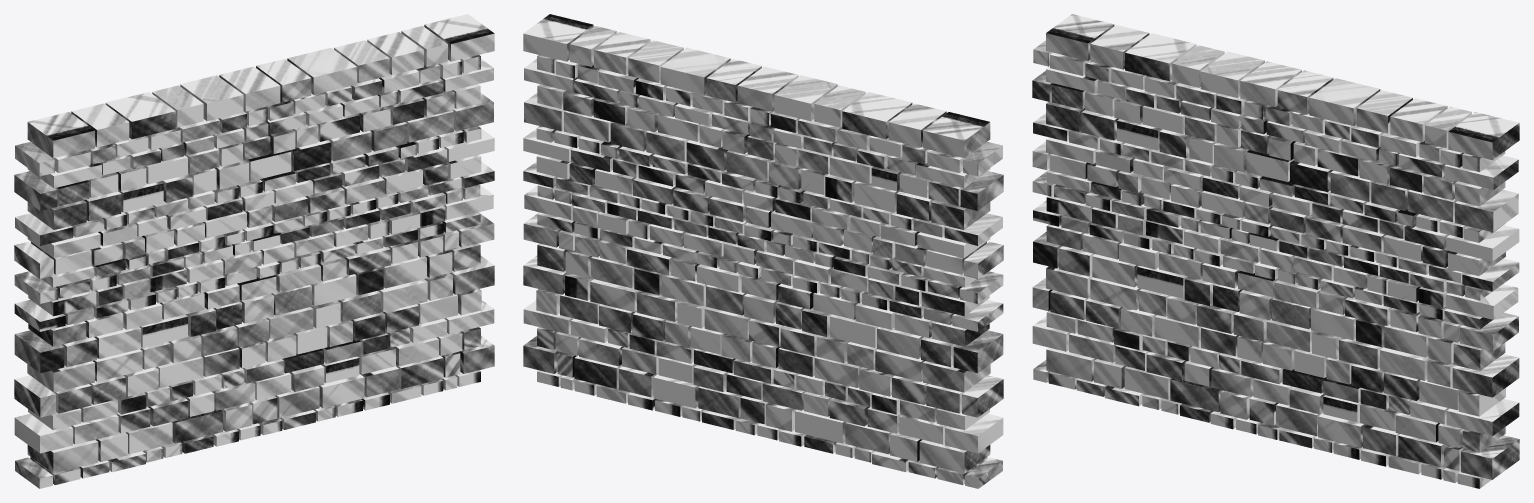
The model's file is wall.fbx.
3 renders of one model, left to right at view 1: azimuth 30°, elevation 25°; view 2: azimuth 150°, elevation 25°; view 3: azimuth 330°, elevation 25°, orthographic.
Parts seen in each view (by area): view 1: Wall; view 2: Wall; view 3: Wall.
Part boxes in pixels (x1,y1,x2,y2): Wall: (14,14,494,488); Wall: (523,14,1003,488); Wall: (1032,14,1519,488).
Bounding box in the file's own units: 2051 × 1490 × 210.
